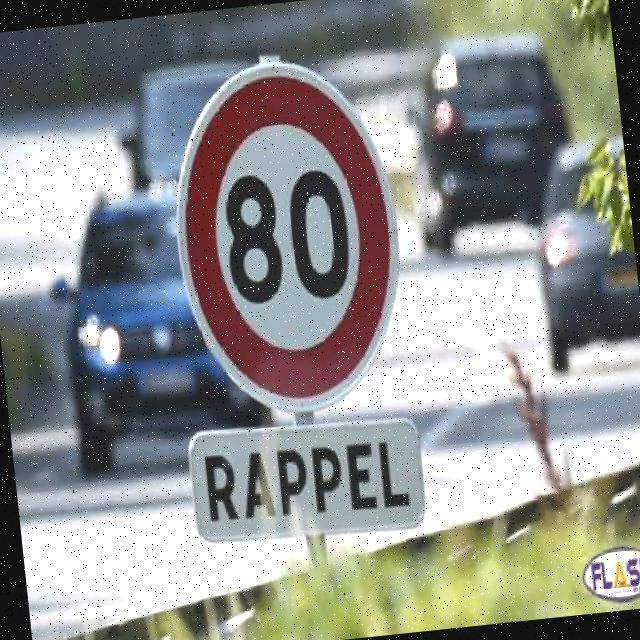Ograniczenie predkosci do 80: (174, 84, 403, 392)
